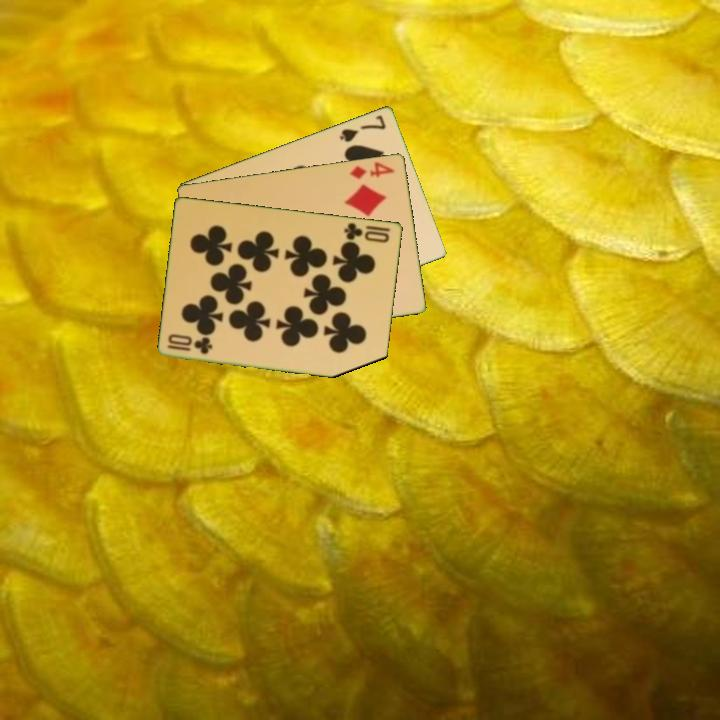10c: (341, 219, 392, 245), (164, 335, 216, 357)
4d: (346, 158, 398, 182)
7s: (336, 111, 389, 145)
